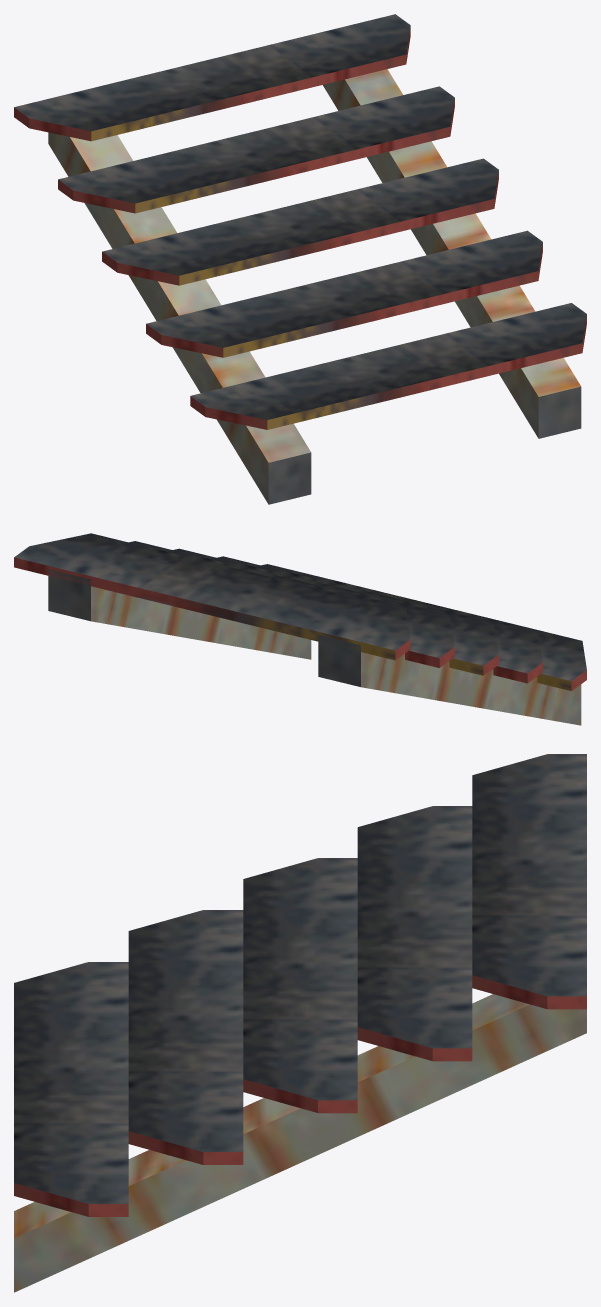
File: SM_METAL_STAIRS_02.fbx
3 renders of one model, top to bottom at view 1: azimuth 30°, elevation 25°; view 2: azimuth 150°, elevation 25°; view 3: azimuth 270°, elevation 25°, orthographic. The views are drawn at different scales.
Parts seen in each view (by area): view 1: SM_METAL STAIRS_02; view 2: SM_METAL STAIRS_02; view 3: SM_METAL STAIRS_02.
Boxes of the visible parts, x1,y1,x2,y2 form: SM_METAL STAIRS_02: [14, 14, 586, 504]; SM_METAL STAIRS_02: [14, 533, 586, 725]; SM_METAL STAIRS_02: [14, 754, 586, 1292].
Bounding box in the file's own units: 2 × 1.23 × 2.
